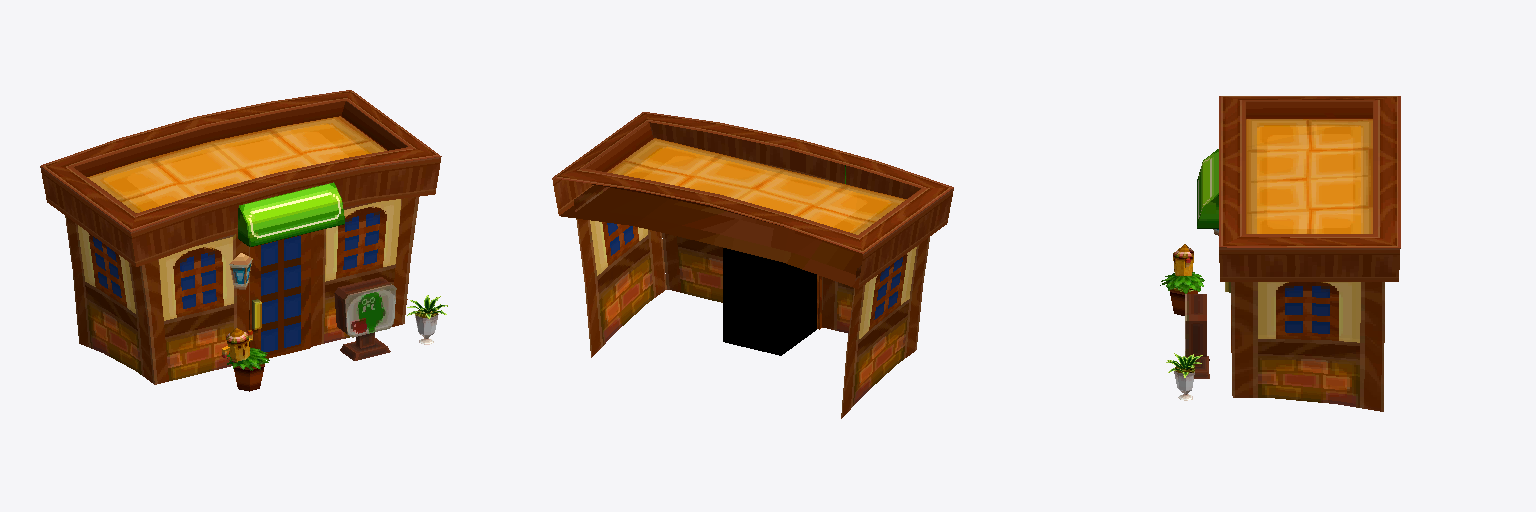
3 renders of one model, left to right at view 1: azimuth 30°, elevation 25°; view 2: azimuth 150°, elevation 25°; view 3: azimuth 270°, elevation 25°, orthographic.
Parts seen in each view (by area): view 1: vsn_mesh_0__mesh_0_.001, vsn_mesh_0_.001_mesh_0_.002; view 2: vsn_mesh_0__mesh_0_.001; view 3: vsn_mesh_0__mesh_0_.001.
Part boxes in pixels (bbox=[...]): vsn_mesh_0__mesh_0_.001: bbox=[40, 90, 447, 391]; vsn_mesh_0_.001_mesh_0_.002: bbox=[249, 233, 310, 358]; vsn_mesh_0__mesh_0_.001: bbox=[552, 112, 953, 418]; vsn_mesh_0__mesh_0_.001: bbox=[1160, 96, 1400, 411].
Size of the model in its own units: 1.63 by 0.9541 by 1.1.
2 materials, 1 textured.